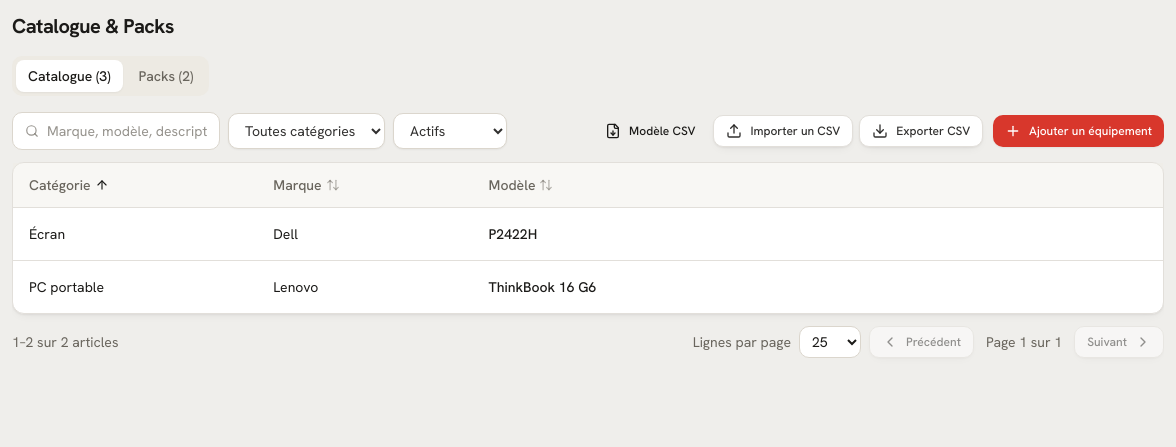
Test: CataloguePage › recherche sans resultat : propose de reinitialiser les filtres
Expected: the text "Lenovo" is shown, [257,260,472,313]
Type "introuvable" into the field named "Rechercher un équipement du catalogue" at (127, 131), box [47,121,207,141]
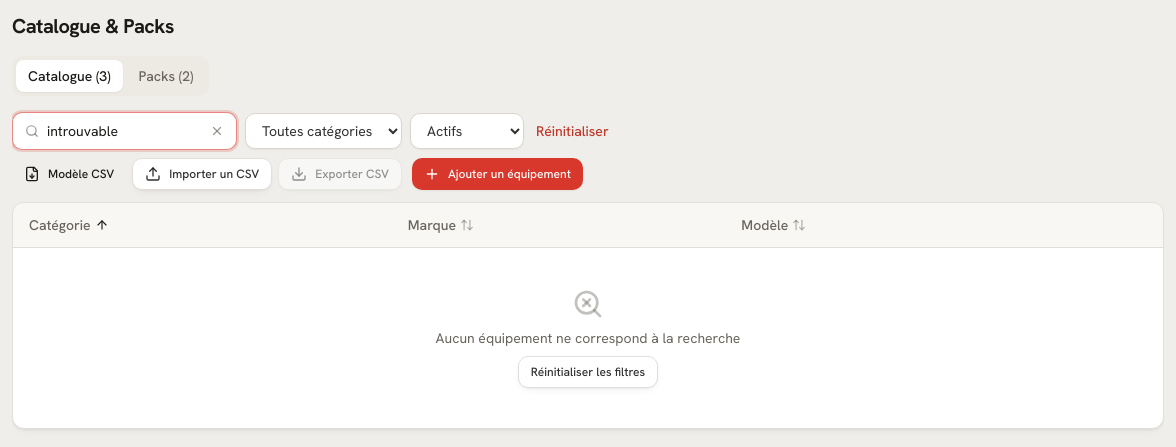
Result: the text "Aucun équipement ne correspond à la recherche" is shown at [436,328,740,348]
Click the button "Réinitialiser les filtres" at (588, 372), box [518,356,658,388]
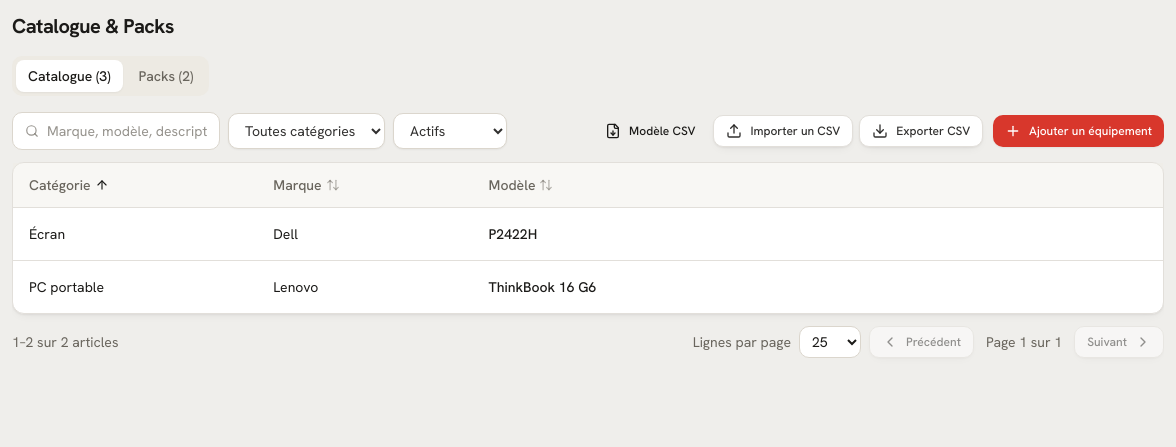
Result: the text "Lenovo" is shown at [257,260,472,313]
